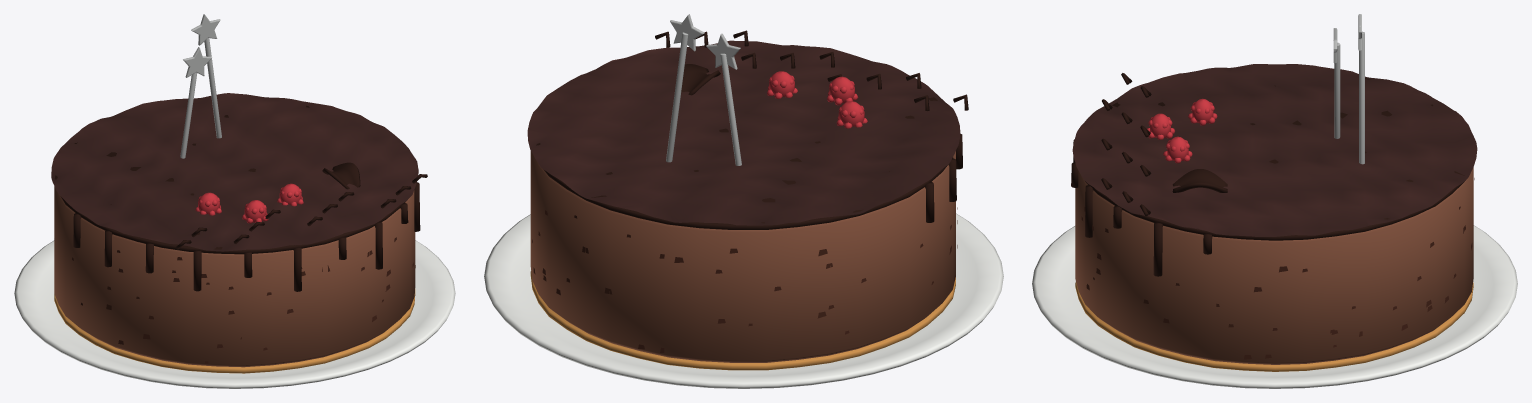
The model's file is cake-16.e964aae120ad-Dc2GMKne.glb.
3 views of the same model, side by side, from view 1: azimuth 30°, elevation 25°; view 2: azimuth 150°, elevation 25°; view 3: azimuth 270°, elevation 25° (orthographic). The views are drawn at different scales.
Parts seen in each view (by area): view 1: Irregular_hand_spread_food_surface, Soft_hand_spread_cream_body, Clean_porcelain_plate, PART_FOOD_ROOT_MAT_chocolate, Exposed_thin_sponge_base, PART_FOOD_ROOT_MAT_strawberry, PART_PIVOT_silver_stick_1_MAT_satin_silver_wax, PART_PIVOT_silver_stick_0_MAT_satin_silver_wax, Edible_side_crumb_and_spatula_marks; view 2: Irregular_hand_spread_food_surface, Soft_hand_spread_cream_body, Clean_porcelain_plate, PART_FOOD_ROOT_MAT_chocolate, Exposed_thin_sponge_base, PART_FOOD_ROOT_MAT_strawberry, PART_PIVOT_silver_stick_1_MAT_satin_silver_wax, PART_PIVOT_silver_stick_0_MAT_satin_silver_wax, Edible_side_crumb_and_spatula_marks; view 3: Irregular_hand_spread_food_surface, Soft_hand_spread_cream_body, Clean_porcelain_plate, PART_FOOD_ROOT_MAT_chocolate, Exposed_thin_sponge_base, PART_FOOD_ROOT_MAT_strawberry, PART_PIVOT_silver_stick_1_MAT_satin_silver_wax, PART_PIVOT_silver_stick_0_MAT_satin_silver_wax, Edible_side_crumb_and_spatula_marks.
Part boxes in pixels (x1,y1,x2,y2): Irregular_hand_spread_food_surface: (51,93,418,251); Soft_hand_spread_cream_body: (54,186,415,367); Clean_porcelain_plate: (14,240,455,388); PART_FOOD_ROOT_MAT_chocolate: (55,105,427,291); Exposed_thin_sponge_base: (54,289,415,373); PART_FOOD_ROOT_MAT_strawberry: (195,183,303,223); PART_PIVOT_silver_stick_1_MAT_satin_silver_wax: (191,14,221,138); PART_PIVOT_silver_stick_0_MAT_satin_silver_wax: (180,47,212,158); Edible_side_crumb_and_spatula_marks: (54,237,415,363); Irregular_hand_spread_food_surface: (527,40,960,225); Soft_hand_spread_cream_body: (530,151,955,362); Clean_porcelain_plate: (484,213,1003,388); PART_FOOD_ROOT_MAT_chocolate: (536,30,968,229); Exposed_thin_sponge_base: (530,271,955,370); PART_FOOD_ROOT_MAT_strawberry: (767,71,867,128); PART_PIVOT_silver_stick_1_MAT_satin_silver_wax: (666,14,704,162); PART_PIVOT_silver_stick_0_MAT_satin_silver_wax: (706,33,741,165); Edible_side_crumb_and_spatula_marks: (532,207,957,352); Irregular_hand_spread_food_surface: (1072,64,1477,236); Soft_hand_spread_cream_body: (1075,167,1473,364); Clean_porcelain_plate: (1032,225,1517,388); PART_FOOD_ROOT_MAT_chocolate: (1071,73,1464,276); Exposed_thin_sponge_base: (1075,282,1473,371); PART_FOOD_ROOT_MAT_strawberry: (1147,98,1217,163); PART_PIVOT_silver_stick_1_MAT_satin_silver_wax: (1358,14,1364,164); PART_PIVOT_silver_stick_0_MAT_satin_silver_wax: (1333,28,1340,138); Edible_side_crumb_and_spatula_marks: (1081,178,1474,359).
Size of the model in its own units: 0.1952 by 0.1265 by 0.1952.
